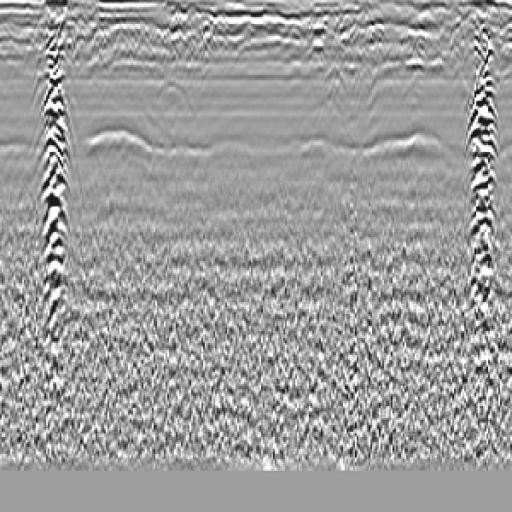metalic: (24, 16, 90, 370), (451, 18, 512, 351)
